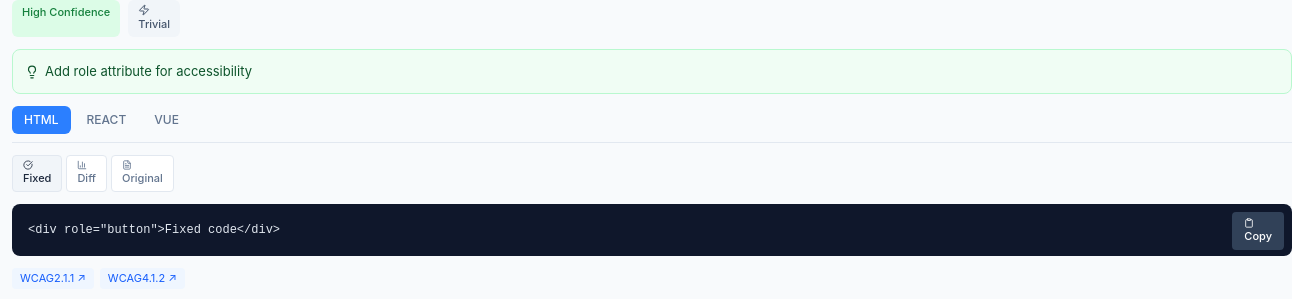
findings/FixCodePreview › switches framework when tab is clicked
Expected: the text "<div role=\"button\">Fixed code</div>" is shown, [28, 222, 280, 236]
Click the button "react": (106, 120) [74, 106, 138, 134]
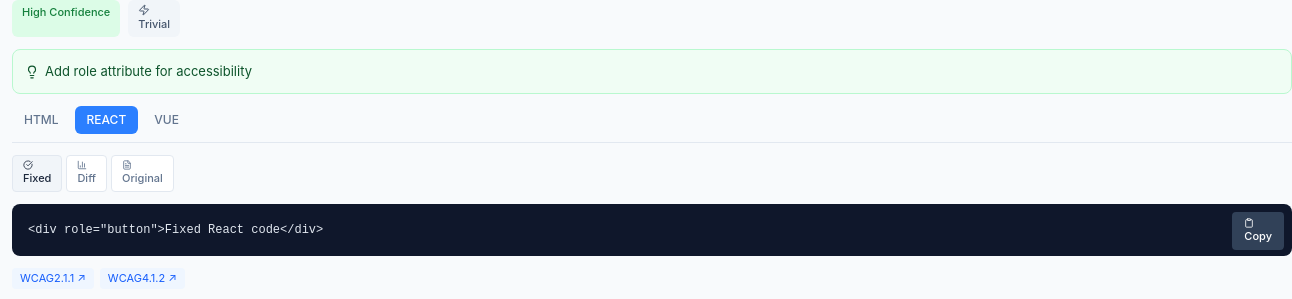
Expected: the text "<div role=\"button\">Fixed React code</div>" is shown, [28, 222, 323, 236]
Click the button "vue": (166, 120) [142, 106, 191, 134]
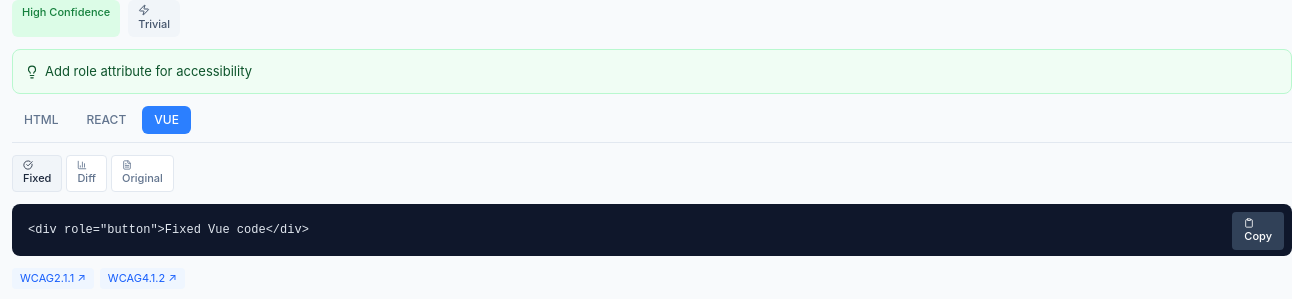
Expected: the text "<div role=\"button\">Fixed Vue code</div>" is shown, [28, 222, 309, 236]
